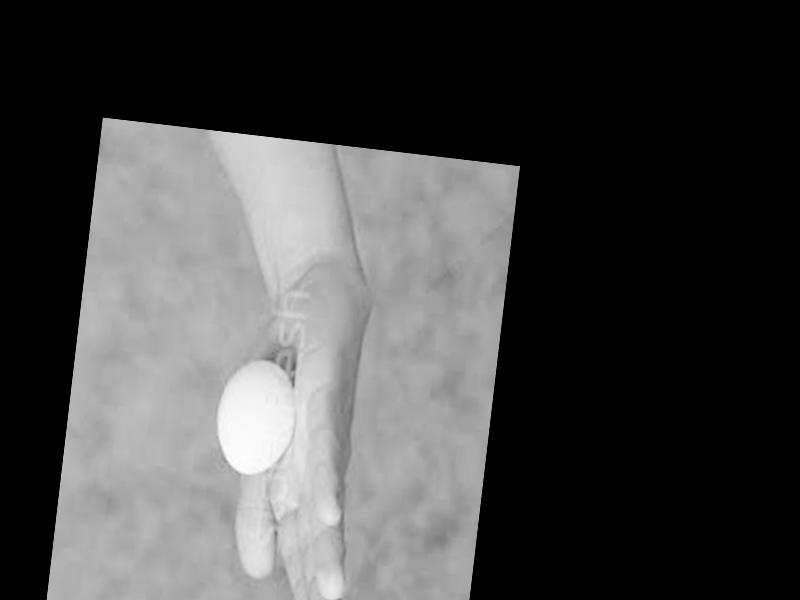Eggs: (209, 355, 301, 478)
